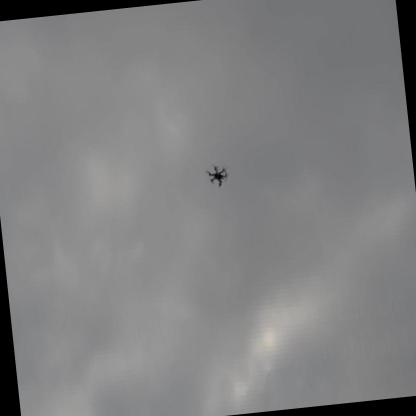drone: (202, 160, 230, 191)
